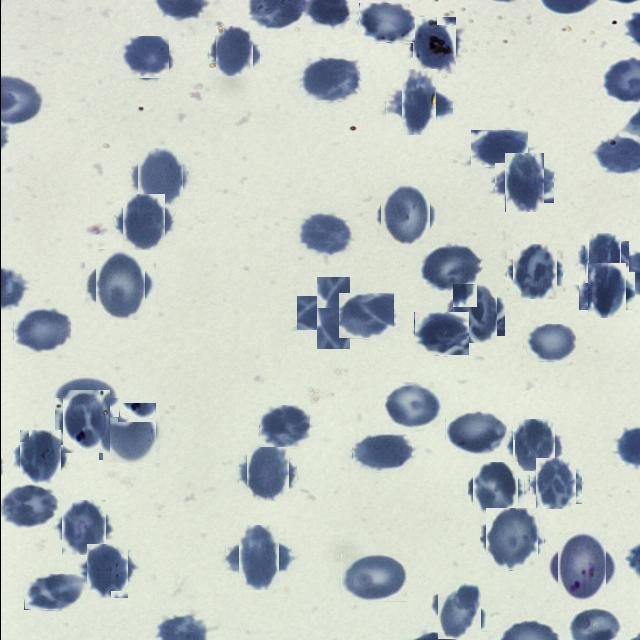red blood cell: (90, 254, 150, 314), (482, 511, 540, 569), (100, 405, 157, 462), (376, 187, 433, 243), (340, 554, 406, 602), (58, 394, 114, 449), (382, 382, 443, 430), (420, 242, 480, 290), (306, 286, 358, 340), (444, 411, 506, 456), (133, 151, 185, 203), (448, 288, 500, 340), (232, 532, 284, 584), (12, 308, 70, 354), (433, 584, 484, 636), (54, 377, 119, 417), (300, 58, 359, 102), (337, 293, 393, 339), (470, 464, 520, 515), (408, 20, 459, 70), (242, 448, 292, 498), (509, 247, 559, 297), (58, 503, 108, 553), (118, 197, 168, 247), (498, 158, 548, 208), (394, 78, 444, 128), (413, 312, 468, 356), (510, 421, 558, 469), (15, 433, 63, 481), (82, 547, 130, 595), (1, 485, 57, 526), (351, 434, 411, 472), (23, 574, 86, 610), (358, 3, 414, 43), (298, 213, 352, 254), (582, 268, 630, 314), (258, 405, 309, 448), (470, 130, 527, 167), (118, 36, 168, 78), (532, 461, 578, 506), (522, 324, 575, 362), (212, 30, 256, 74), (580, 237, 624, 280)
ring: (550, 538, 610, 598)
